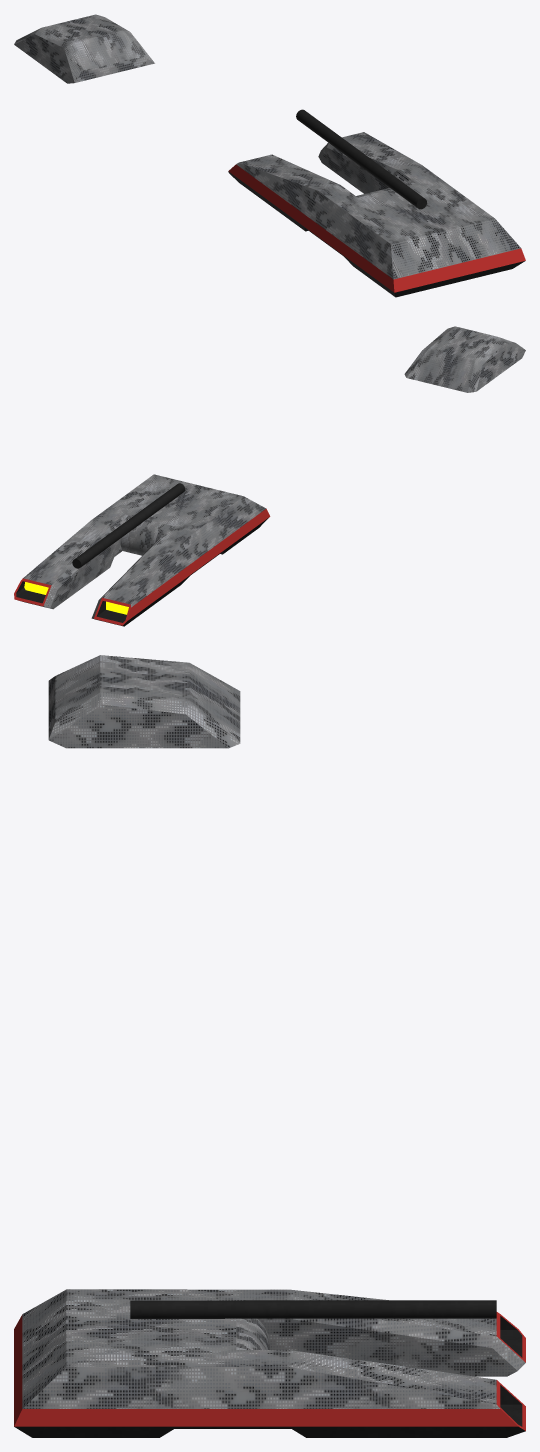
Rendered from Paladin.glb.
3 renders of one model, top to bottom at view 1: azimuth 30°, elevation 25°; view 2: azimuth 150°, elevation 25°; view 3: azimuth 270°, elevation 25°, orthographic. The views are drawn at different scales.
Visible parts, largest first — view 1: Body, Turret, Barrel; view 2: Body, Turret, Barrel; view 3: Body, Turret, Barrel.
Part boxes in pixels (bbox=[...]): Body: bbox=[228, 132, 525, 297]; Turret: bbox=[14, 14, 154, 83]; Barrel: bbox=[296, 109, 426, 209]; Body: bbox=[14, 474, 270, 626]; Turret: bbox=[404, 326, 525, 392]; Barrel: bbox=[72, 483, 185, 568]; Body: bbox=[14, 1289, 525, 1437]; Turret: bbox=[48, 655, 240, 748]; Barrel: bbox=[130, 1300, 496, 1318].
Size of the model in its own units: 2.46 by 1.66 by 1.63.
Materials: 5 (3 with a texture image).
